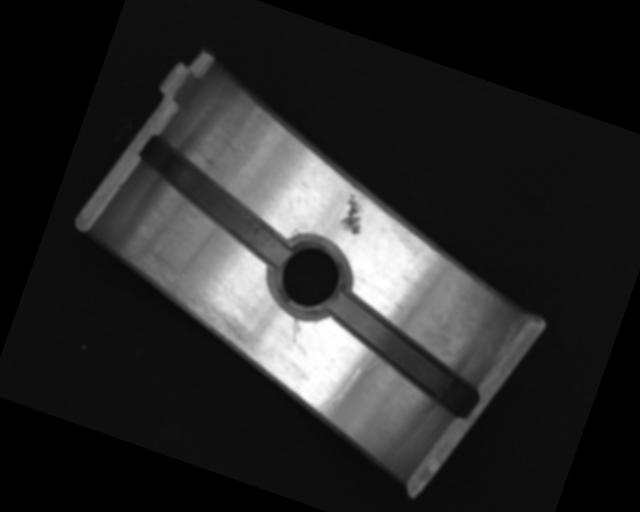bruise: (336, 192, 372, 237)
gap: (122, 133, 307, 267), (311, 291, 494, 420)
hole: (260, 231, 359, 331)
nick: (315, 357, 363, 422), (285, 315, 305, 345)
scratch: (116, 254, 271, 357)
